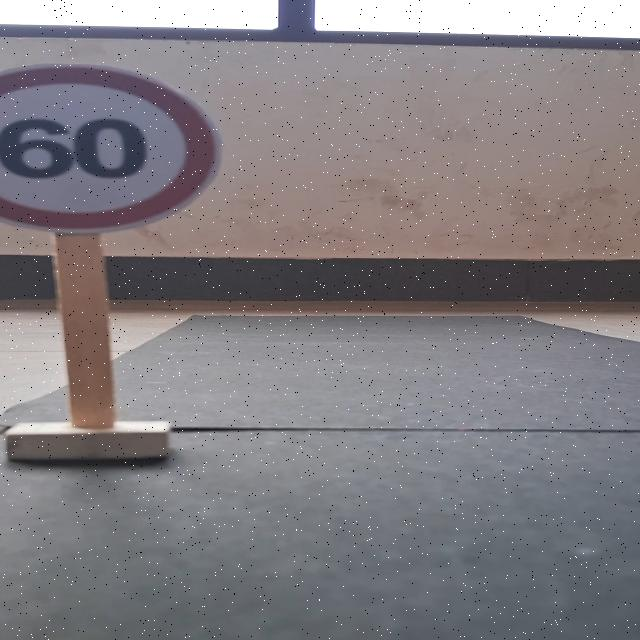Speed60: (0, 59, 224, 236)
